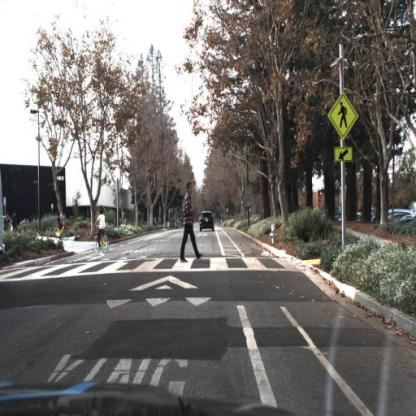biker: (92, 209, 112, 255), (53, 210, 71, 244)
car: (200, 207, 217, 236)
pedestrian: (179, 180, 206, 265), (56, 211, 69, 239), (12, 212, 22, 236), (59, 207, 67, 228)
